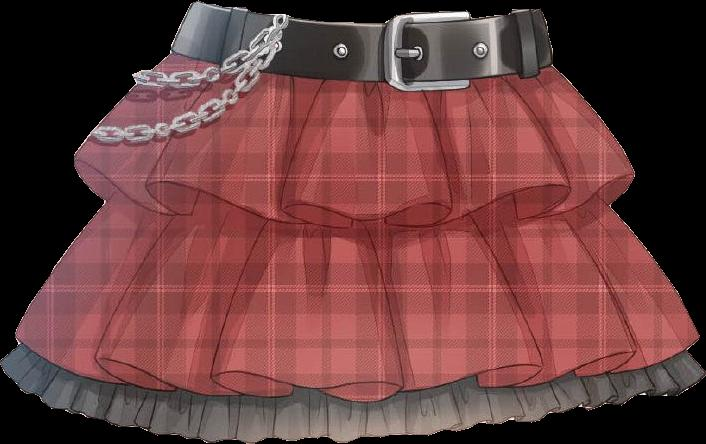Hemline: (0, 360, 705, 442), (16, 333, 701, 402), (69, 154, 635, 231)
Waistline: (167, 50, 553, 82), (192, 0, 535, 31)
